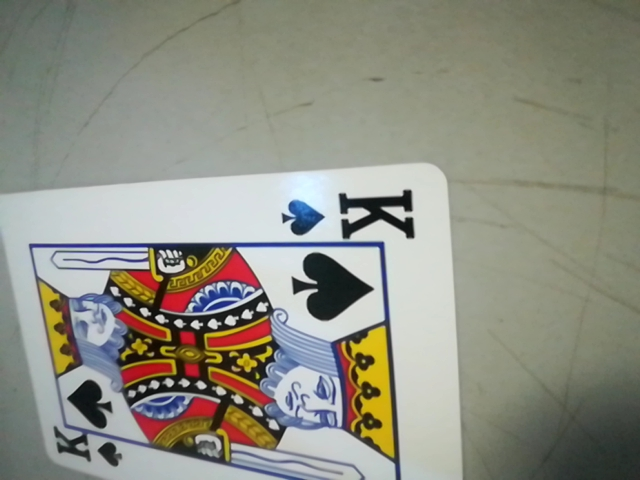ht k: (280, 183, 421, 249)
